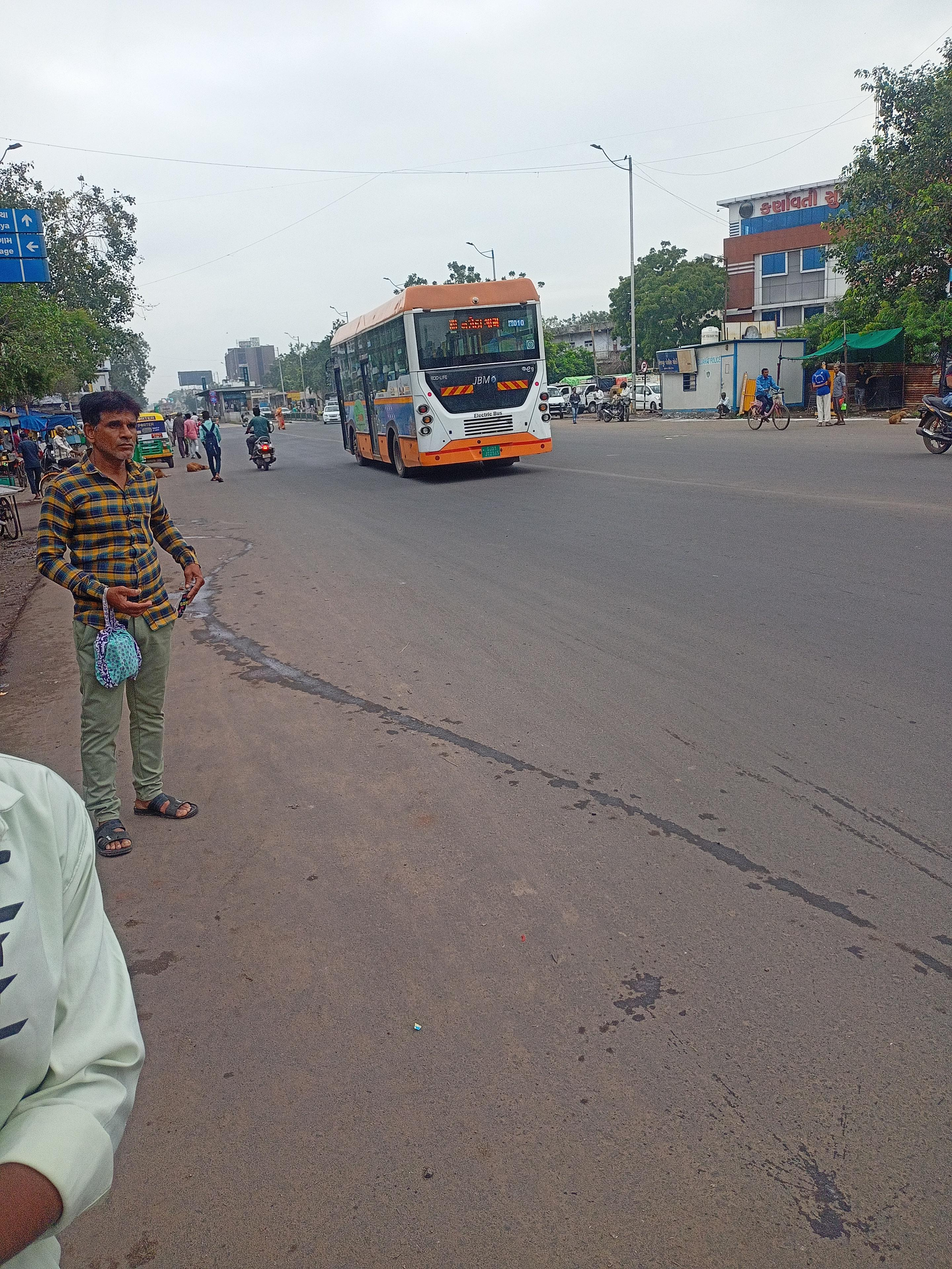green license plate: (474, 441, 507, 455)
